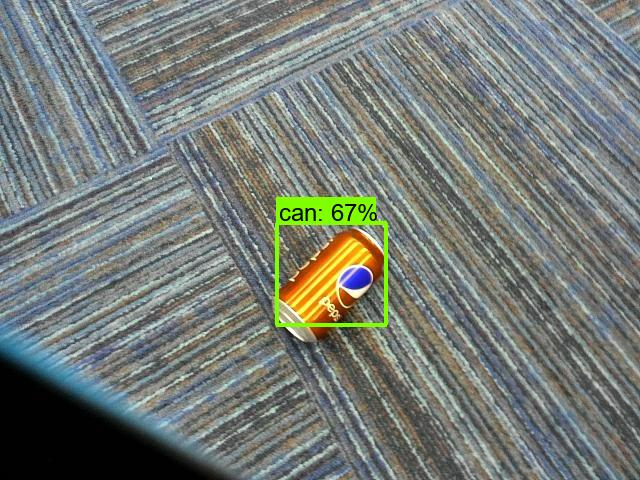can: (256, 219, 387, 346)
